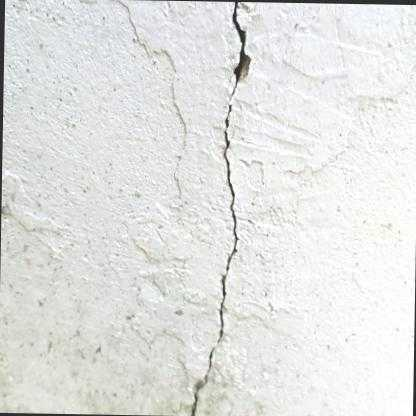crack: (190, 0, 246, 416)
